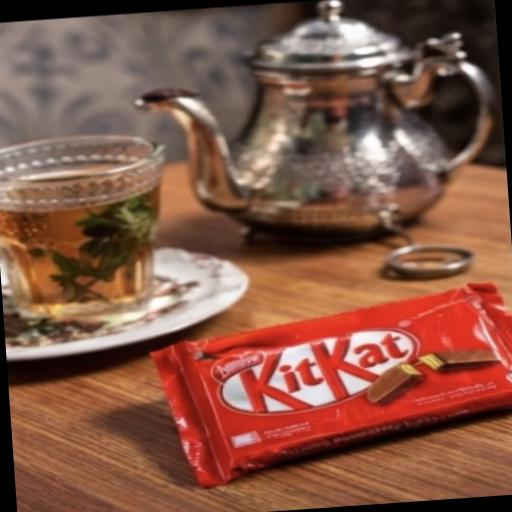kitkat: (141, 278, 512, 500)
